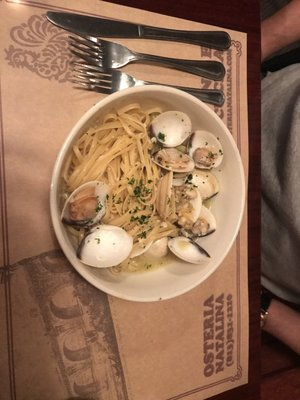burger: (44, 14, 225, 97), (56, 38, 224, 99)
sushi: (49, 85, 245, 303)
